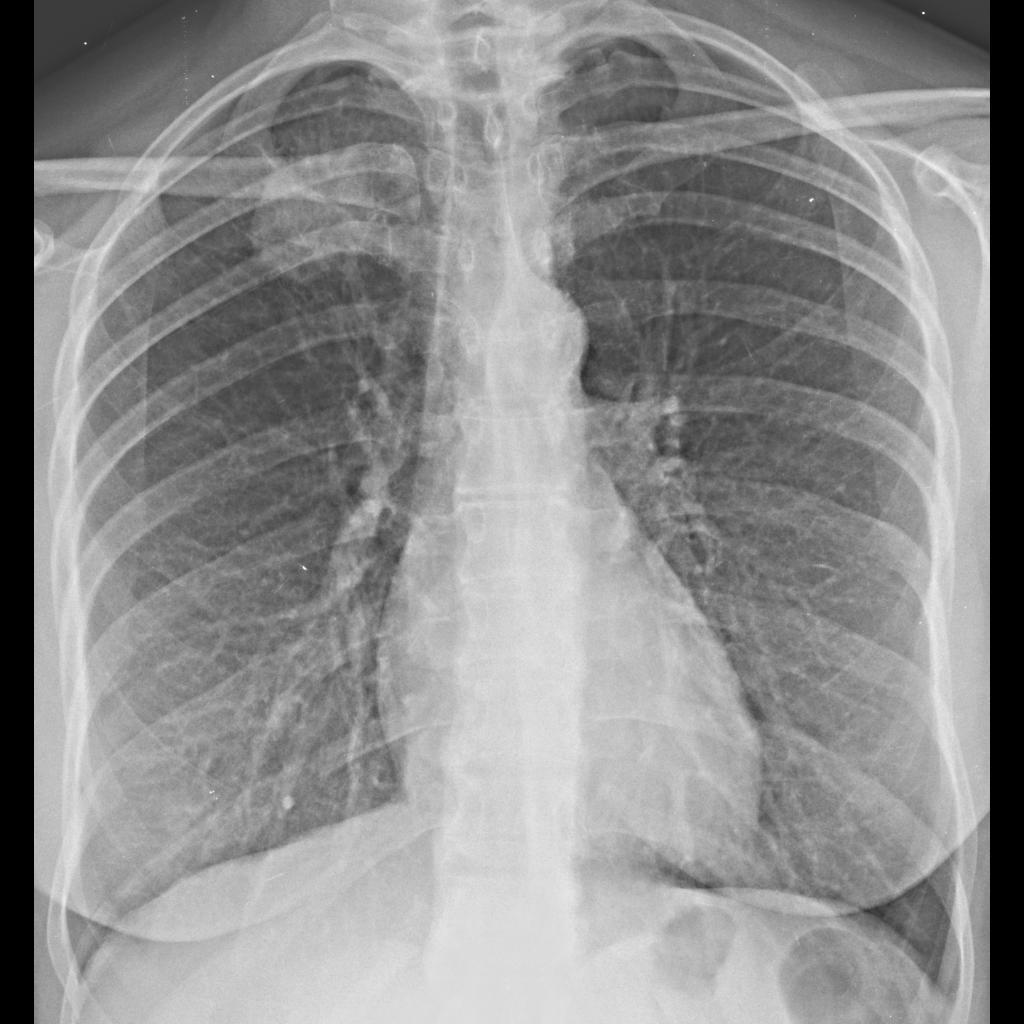Nodule: (250, 152, 386, 286)
